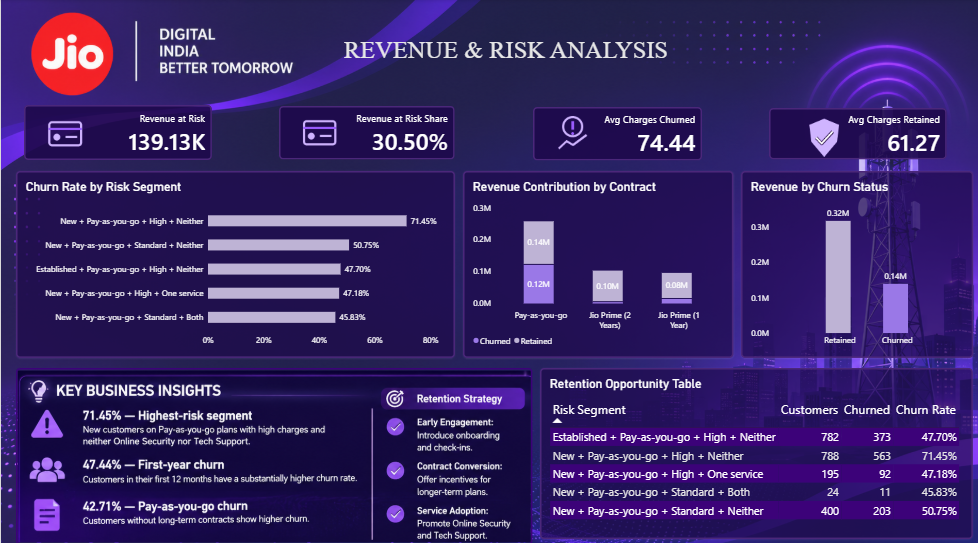

The dashboard page shown, as its layout file describes it:
{"tool":"powerbi","page":{"name":"Revenue & Risk Analysis","canvas":[1920,1080],"ordinal":1},"visuals":[{"type":"cardVisual","fields":{"Data":["jio_churn_cleaned.Revenue at Risk"]},"box":[45.4,207.4,369.4,108],"z":0},{"type":"cardVisual","fields":{"Data":["jio_churn_cleaned.Revenue at Risk Share"]},"box":[546.5,209.5,345.6,105.8],"z":1},{"type":"cardVisual","fields":{"Data":["jio_churn_cleaned.Avg Charges Churned"]},"box":[1045.4,211.7,332.6,105.8],"z":2},{"type":"cardVisual","fields":{"Data":["jio_churn_cleaned.Avg Charges Retained"]},"box":[1507.7,213.8,349.9,101.5],"z":3},{"type":"clusteredColumnChart","title":"Revenue by Churn Status","fields":{"Category":["jio_churn_cleaned.Churn Status"],"Y":["jio_churn_cleaned.Total Monthly Revenue"]},"box":[1453.7,337,455.8,367.2],"z":4},{"type":"columnChart","title":"Revenue Contribution by Contract","fields":{"Category":["jio_churn_cleaned.Contract"],"Series":["jio_churn_cleaned.Churn Status"],"Y":["jio_churn_cleaned.Total Monthly Revenue"]},"box":[907.2,337,531.4,367.2],"z":6},{"type":"clusteredBarChart","title":"Churn Rate by Risk Segment","fields":{"Category":["High_Risk_Segments.Risk Segment"],"Y":["Sum(High_Risk_Segments.Churn Rate)"]},"box":[30.2,337,861.8,367.2],"z":7},{"type":"tableEx","title":"Retention Opportunity Table","fields":{"Values":["High_Risk_Segments.Risk Segment","High_Risk_Segments.Customers","High_Risk_Segments.Churned","High_Risk_Segments.Churn Rate"]},"box":[1058.4,724.6,850.3,335.8],"z":8},{"type":"textbox","box":[673.9,32.4,1134,133.9],"z":9},{"type":"image","box":[77.8,222.5,95,84.2],"z":10},{"type":"image","box":[1058.4,222.5,127.4,84.2],"z":11},{"type":"image","box":[561.6,220.3,127.4,84.2],"z":12},{"type":"image","box":[1548.7,226.8,133.9,90.7],"z":13},{"type":"image","box":[29.5,724.6,1013.7,346.8],"z":15}]}

Visuals, with their boxes in screenshot pixels (x1, y1, x2, y2), scaled from the page's 1920x1080 canvas onto the 978x543 screenshot:
cardVisual - jio_churn_cleaned.Revenue at Risk: locate(23, 104, 211, 159)
cardVisual - jio_churn_cleaned.Revenue at Risk Share: locate(278, 105, 454, 159)
cardVisual - jio_churn_cleaned.Avg Charges Churned: locate(533, 106, 702, 160)
cardVisual - jio_churn_cleaned.Avg Charges Retained: locate(768, 107, 946, 159)
"Revenue by Churn Status" clusteredColumnChart: locate(740, 169, 973, 354)
"Revenue Contribution by Contract" columnChart: locate(462, 169, 733, 354)
"Churn Rate by Risk Segment" clusteredBarChart: locate(15, 169, 454, 354)
"Retention Opportunity Table" tableEx: locate(539, 364, 972, 533)
textbox: locate(343, 16, 921, 84)
image: locate(40, 112, 88, 154)
image: locate(539, 112, 604, 154)
image: locate(286, 111, 351, 153)
image: locate(789, 114, 857, 160)
image: locate(15, 364, 531, 539)
